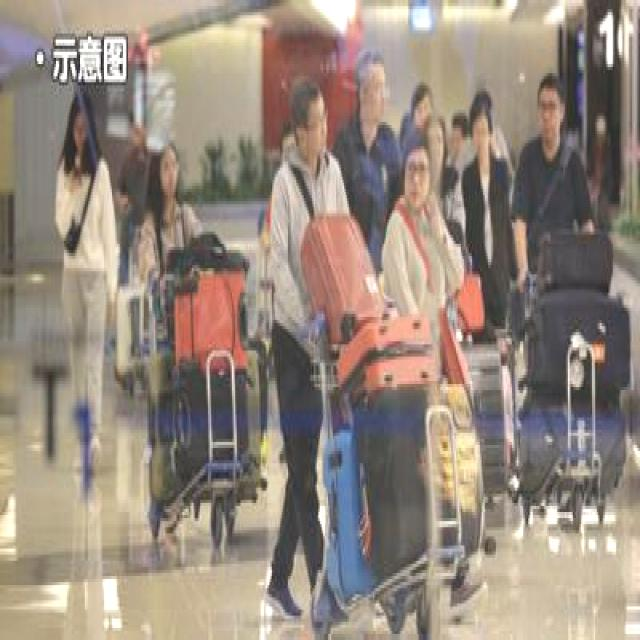face_nomask: (402, 152, 431, 208), (367, 70, 388, 122), (538, 92, 558, 137), (309, 100, 326, 152), (160, 149, 178, 189), (426, 125, 443, 165), (470, 119, 488, 149), (72, 116, 88, 149), (413, 94, 429, 125), (450, 125, 464, 155)
head_nohelmet: (294, 73, 324, 119), (357, 52, 387, 79), (539, 70, 563, 101)
person: (258, 79, 363, 628), (46, 100, 120, 500), (122, 131, 203, 360), (378, 140, 450, 381), (525, 64, 584, 341), (334, 52, 402, 289), (461, 107, 515, 335)
shoes: (262, 567, 306, 622)
